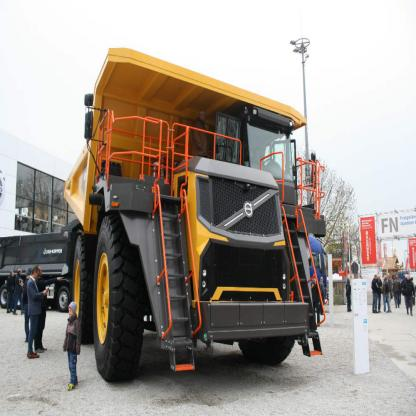dump_truck: (62, 44, 339, 374)
